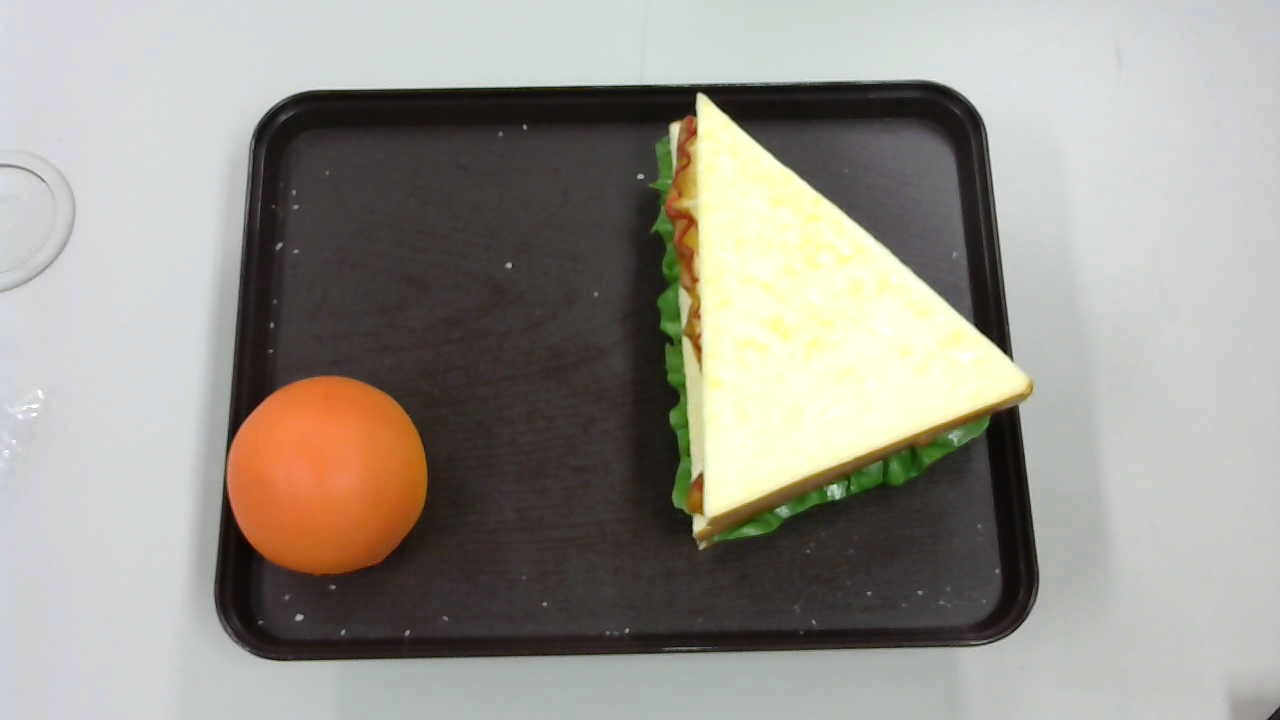bun: (227, 375, 427, 576)
sandwich: (650, 93, 1033, 551)
